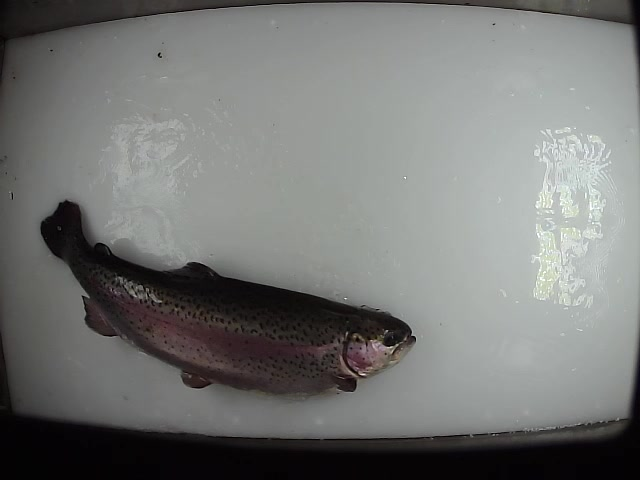fish: (35, 198, 420, 403)
